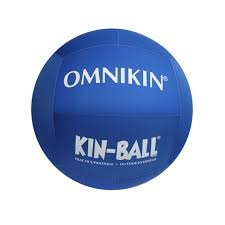blue ball: (31, 27, 194, 191)
